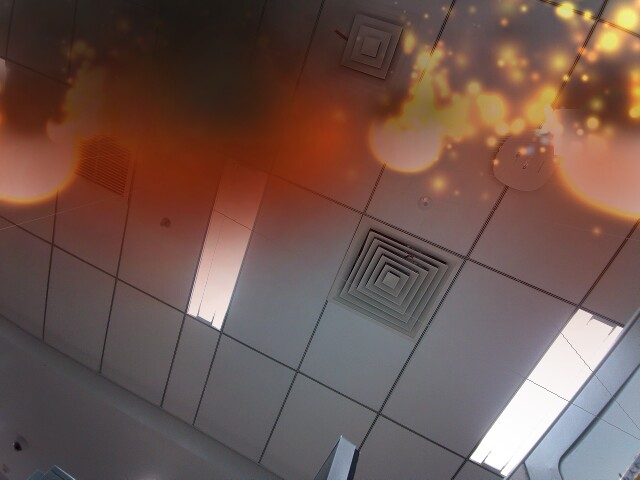fire: (553, 63, 640, 220), (0, 89, 85, 208), (368, 100, 445, 171), (43, 108, 86, 146)
